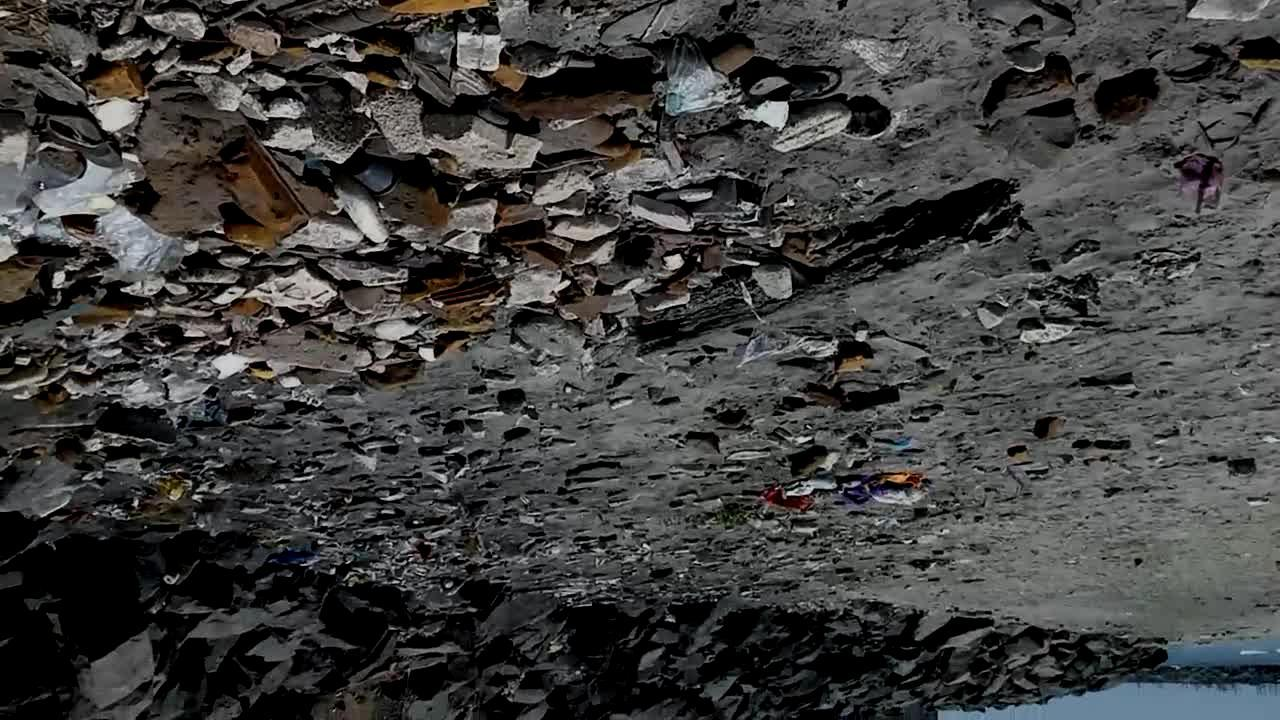obj: (641, 182, 1020, 356), (762, 474, 932, 512), (984, 56, 1078, 120), (1099, 72, 1163, 125), (1238, 38, 1280, 70), (836, 343, 875, 373)
sand/background: (1, 1, 907, 536), (1, 508, 1279, 719)
